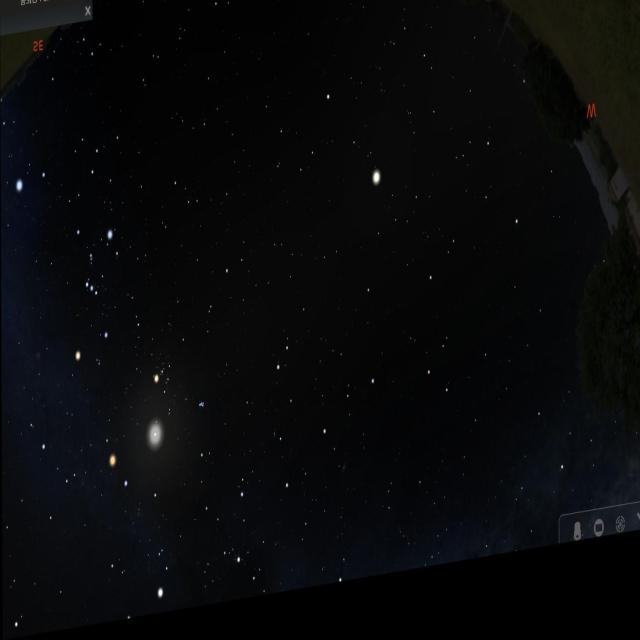canis_major: (1, 112, 46, 201)
gemini: (2, 470, 102, 638)
moon: (144, 416, 168, 476)
orion: (61, 217, 118, 388)
pleiades: (194, 397, 212, 420)
taurus: (149, 335, 211, 441)
